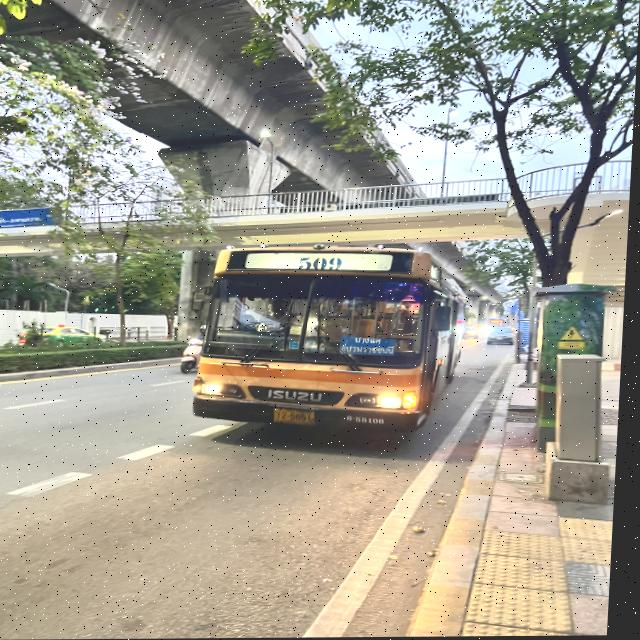BMTA-bus: (195, 244, 471, 435)
Bus-Line-Number: (297, 255, 349, 273)
Destination-Sign-Normal: (343, 336, 404, 360)
